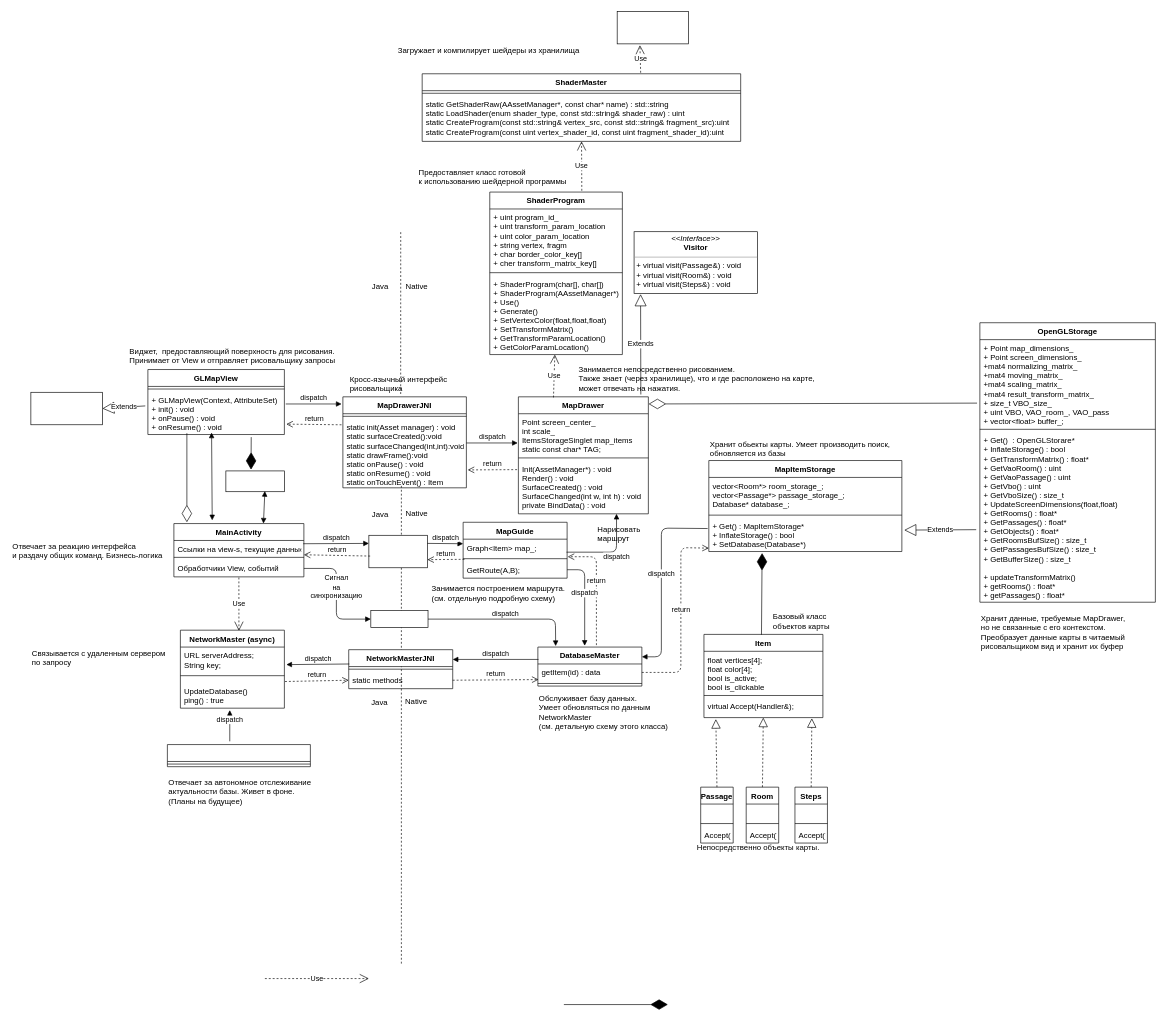
This 1167x1033 diagram has some shape labels left out. Here are the shapes that lost their labels. From the top down, the centre of each, then its label:
the point at 653,27: Assets Storage
the point at 66,408: GLSurfaceView
the point at 254,481: ViewLayout
the point at 397,551: JNI-интерфейс
the point at 399,619: JNI интерфейс
the point at 238,755: ActualDatabaseService (asycn)
